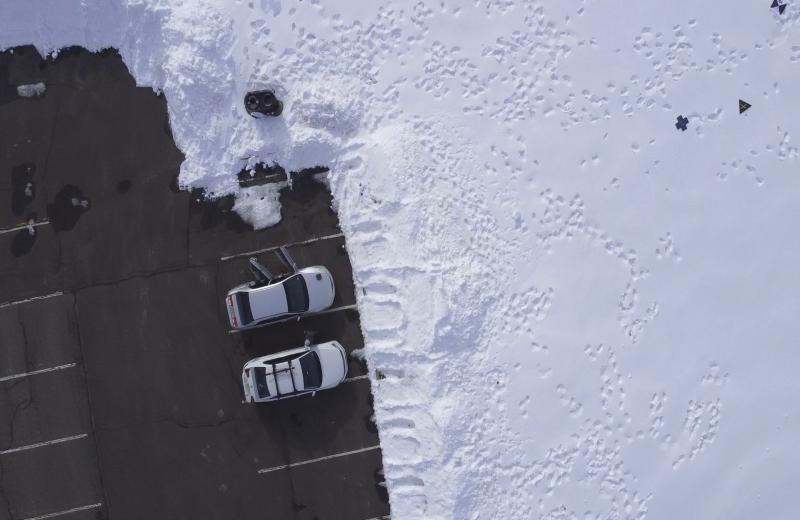Cross: (673, 115, 692, 134)
Triangle: (737, 98, 753, 115)
